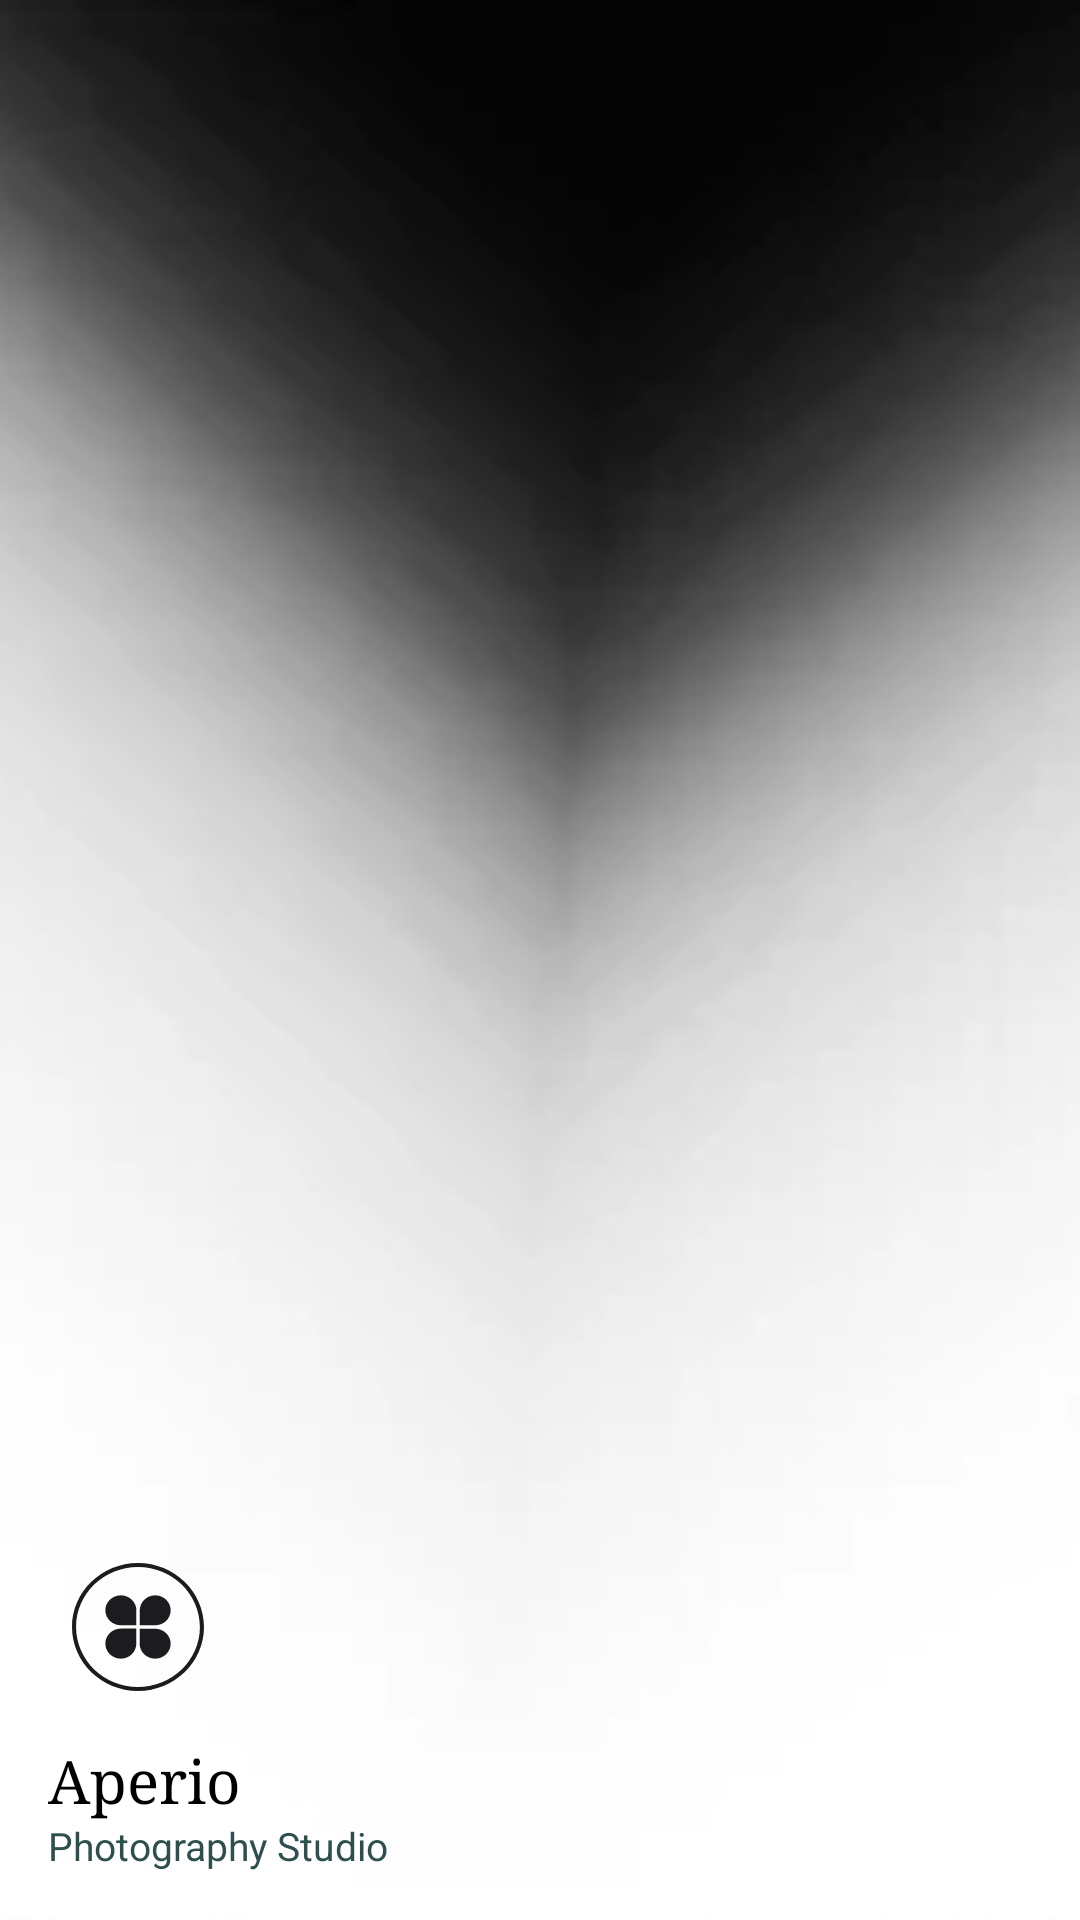

Where to tap for icons on this 1080 × 1920 app screen, as [x,y]:
app: [138,1627]
